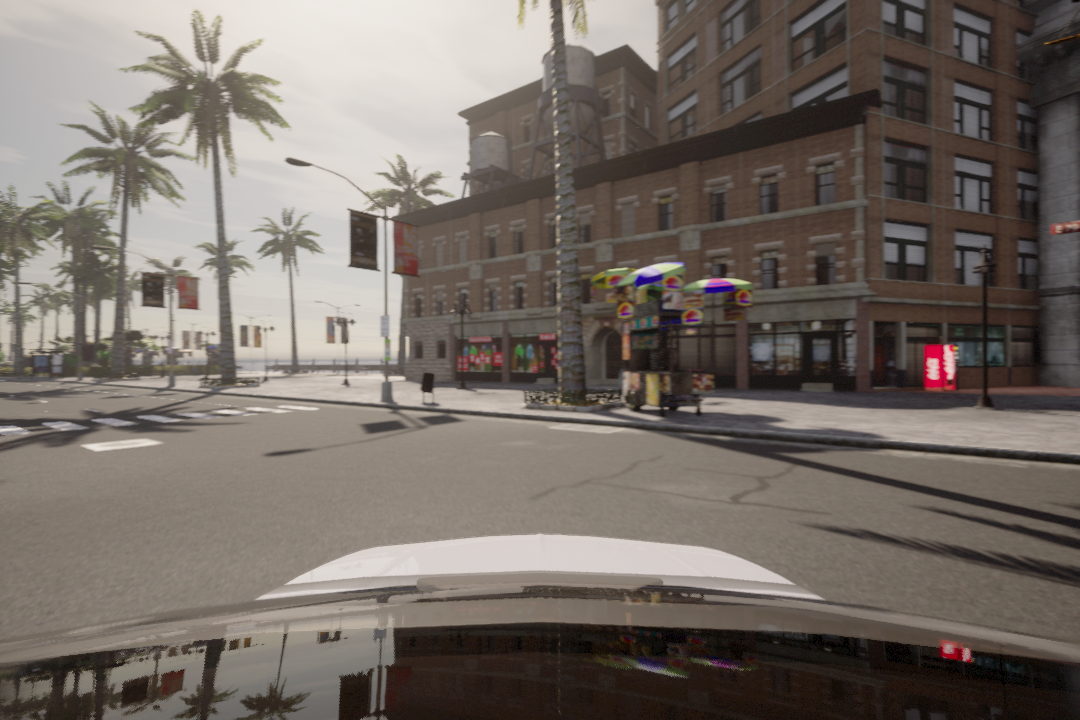walkside: (8, 401, 329, 435)
